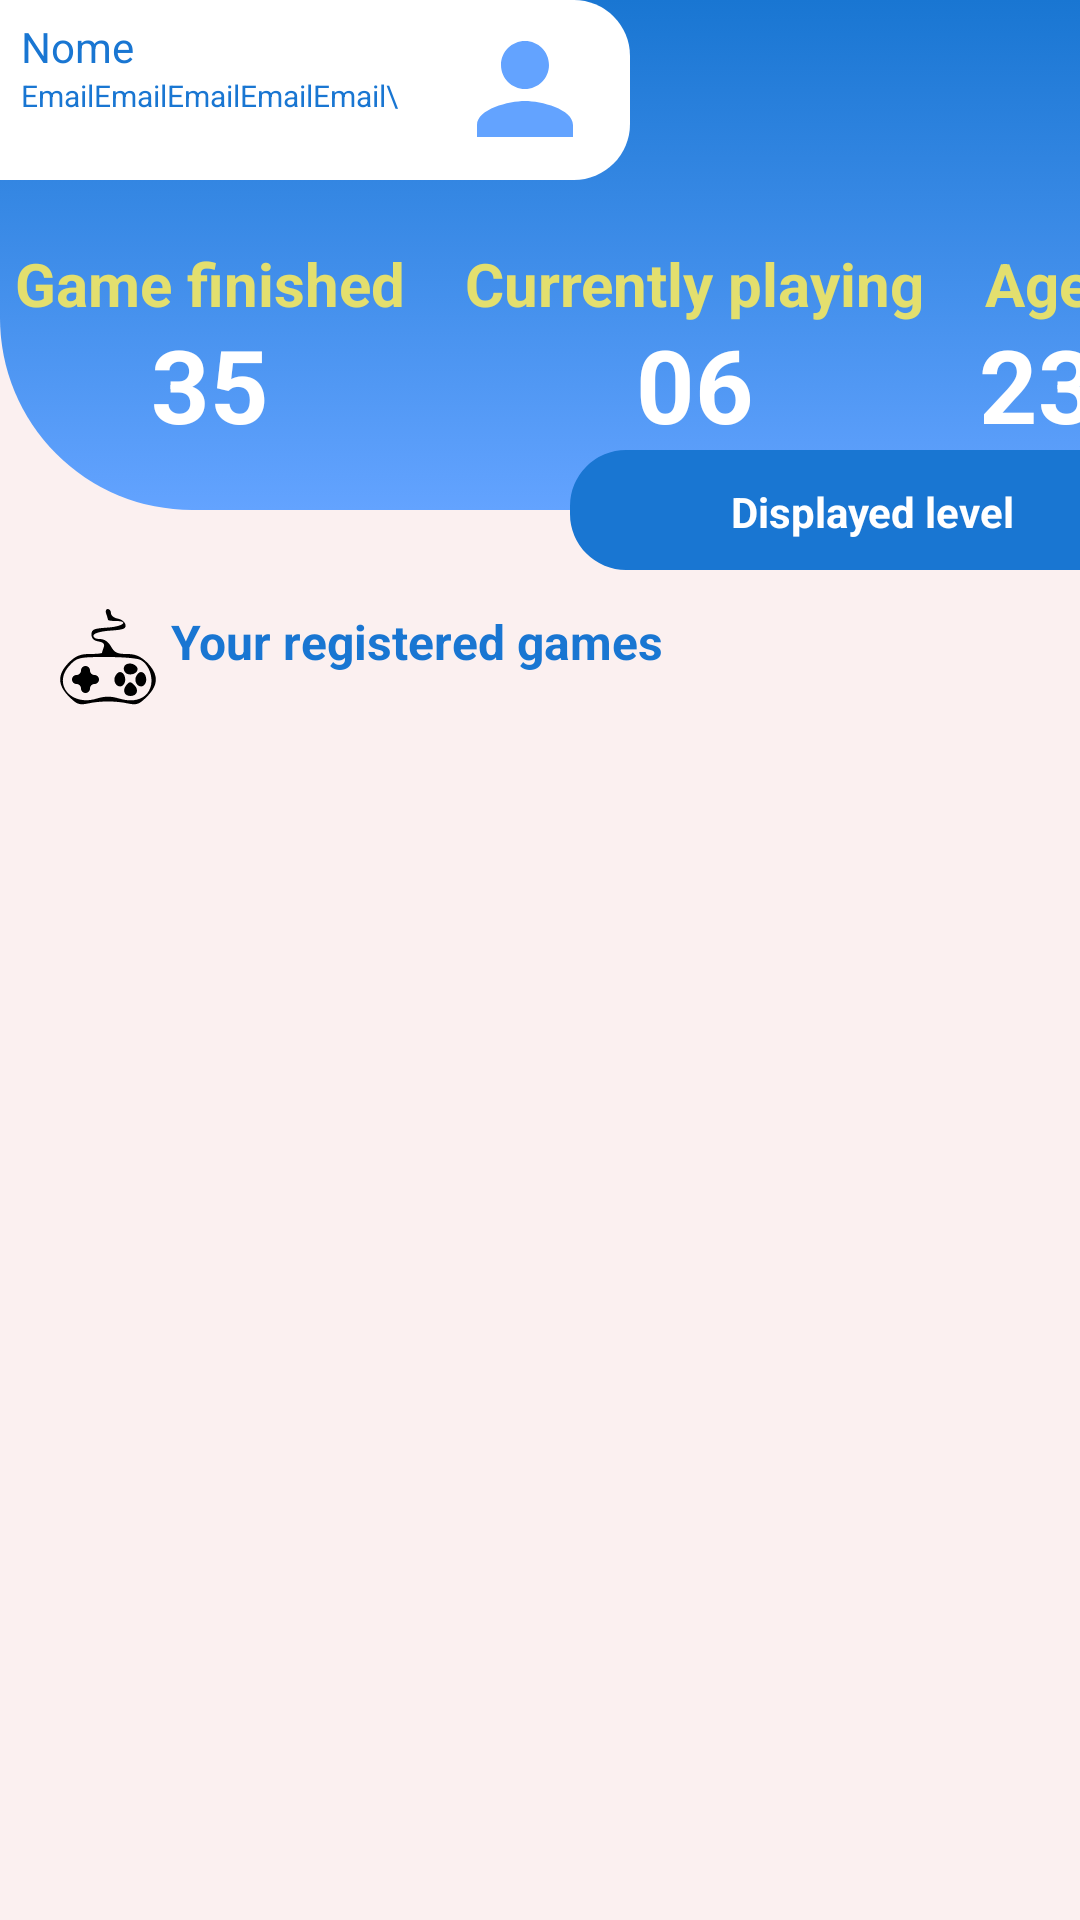

Named icons in this screenshot (1080w x 1920h) and their centers, point (x, y):
person: point (525, 89)
